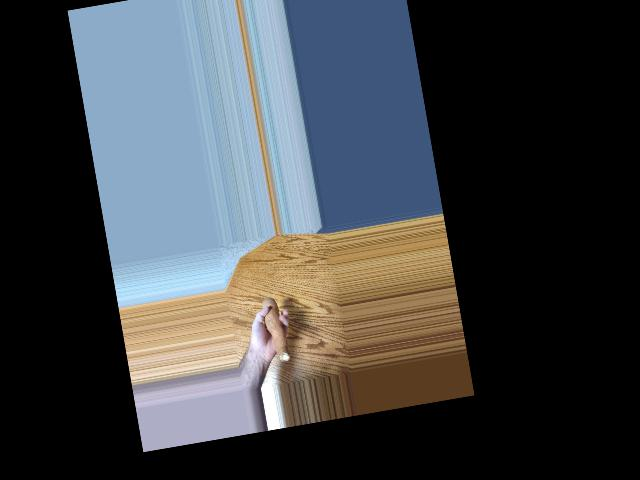sweet_potato: (260, 299, 290, 358)
